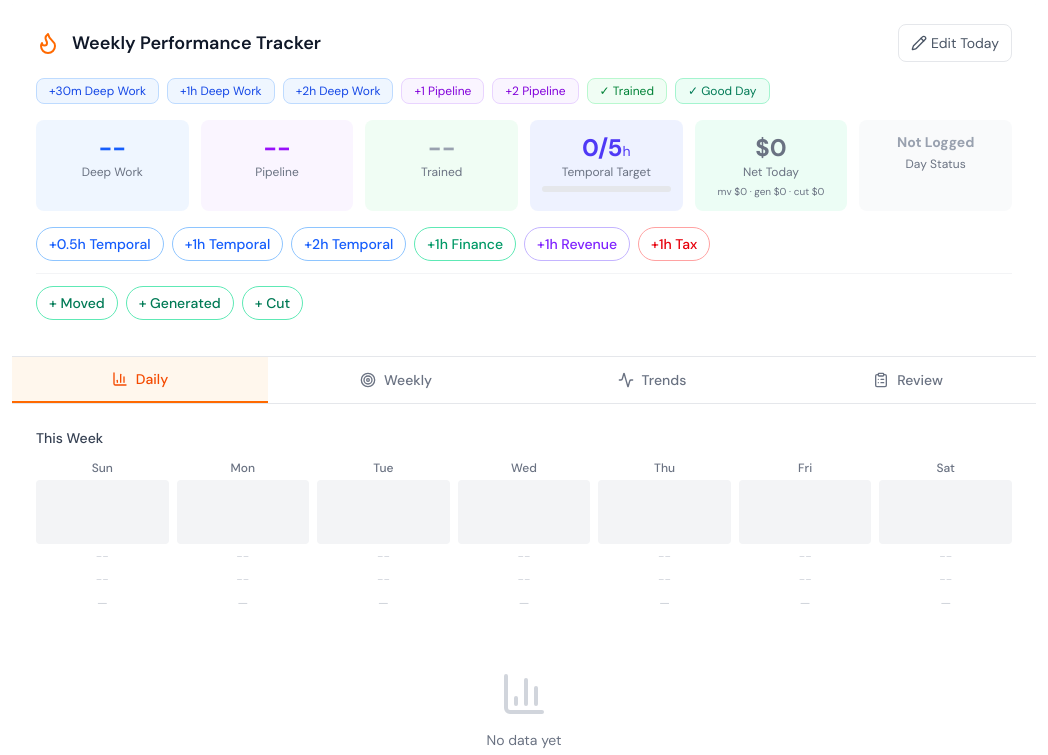
WeeklyPerformanceTracker - Weekly Net Impact › weekly Net Impact card uses weekFinancialTotals, not review revenue
The width and height of the screenshot is (1048, 755).
Click the button "Weekly" at (396, 380), box left=268, top=357, right=524, bottom=403
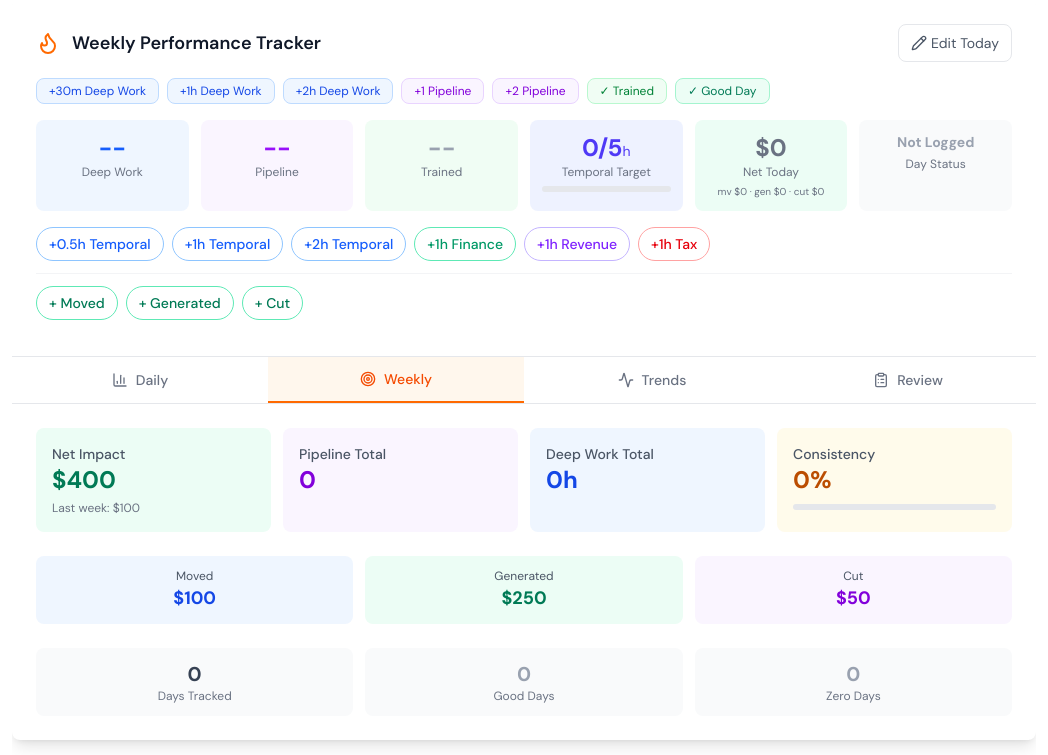
Expected: the text with test id "weekly-net-impact" reads "$400", left=52, top=464, right=116, bottom=495
Expected: the text with test id "weekly-net-impact-prev" shows "$100", left=113, top=500, right=140, bottom=516
Expected: the text with test id "weekly-moved" reads "$100", left=173, top=586, right=216, bottom=610
